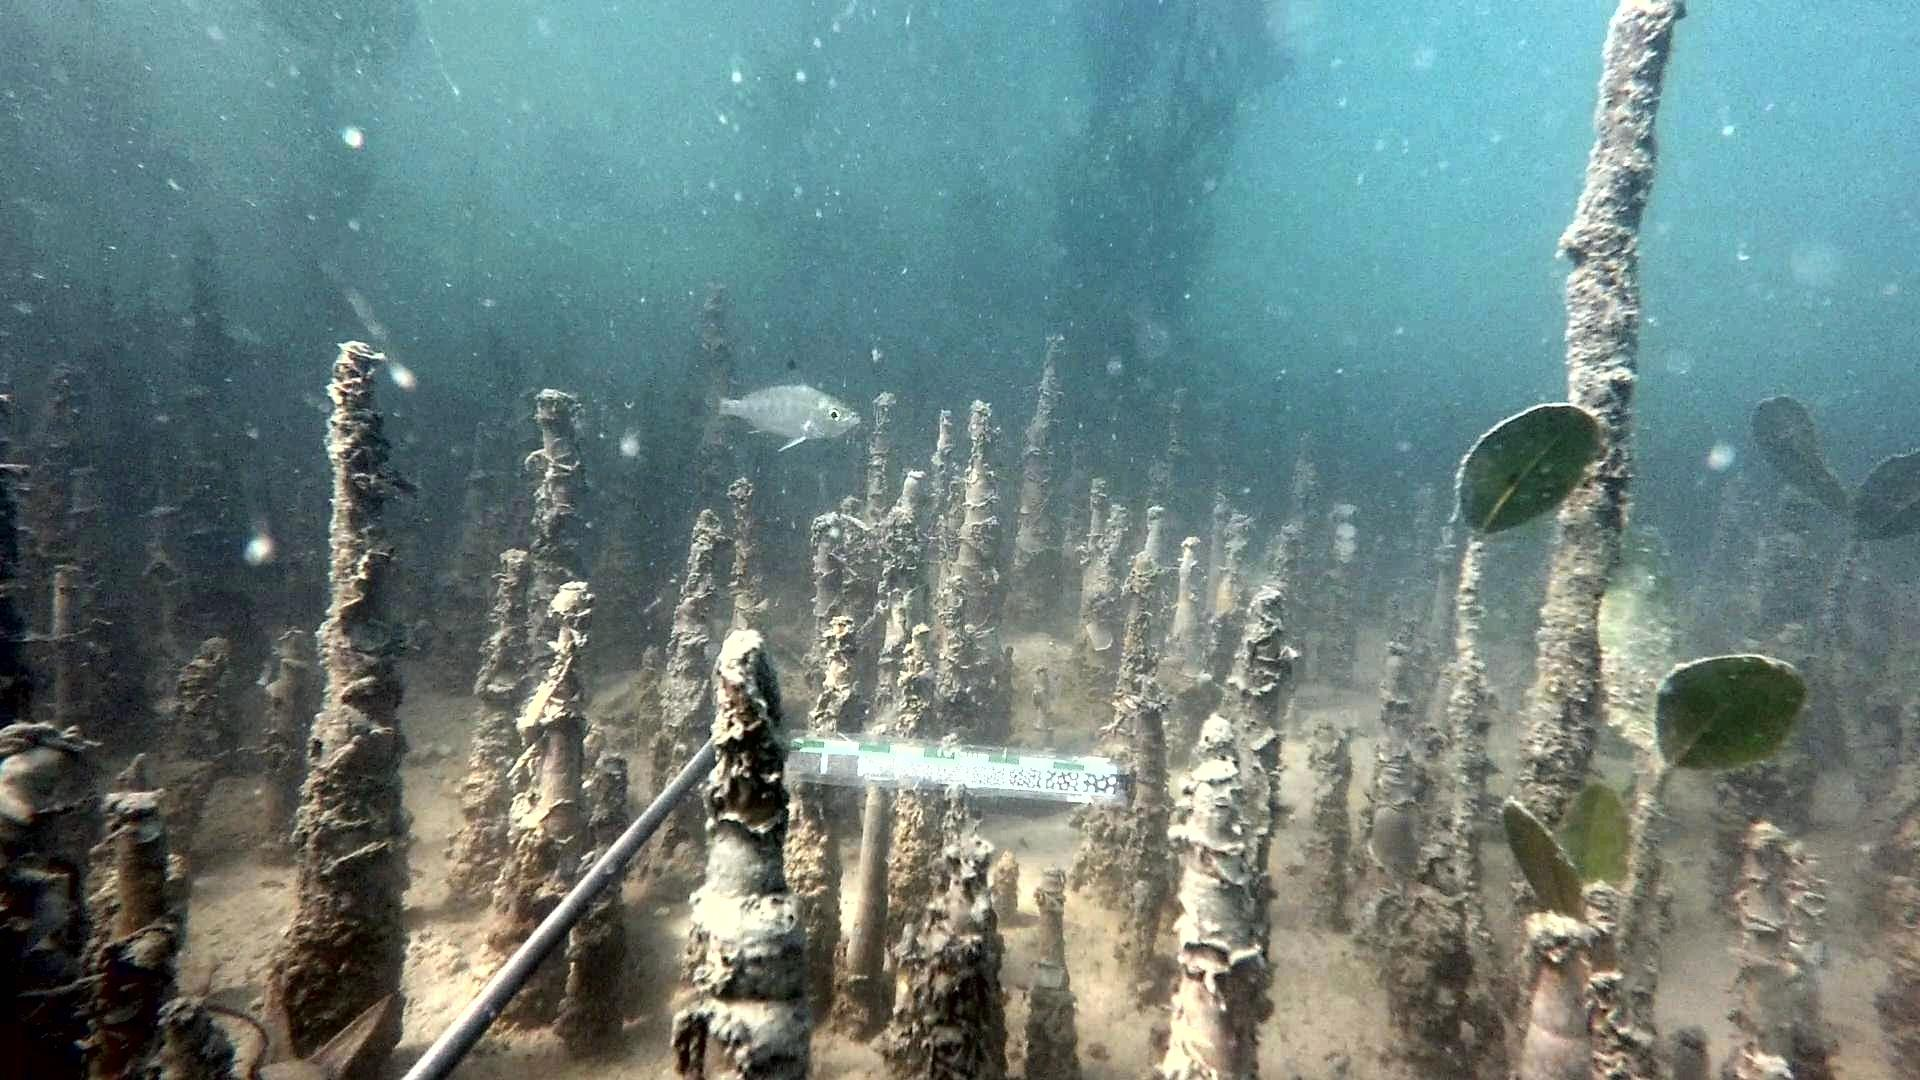gerres: (694, 359, 862, 454)
